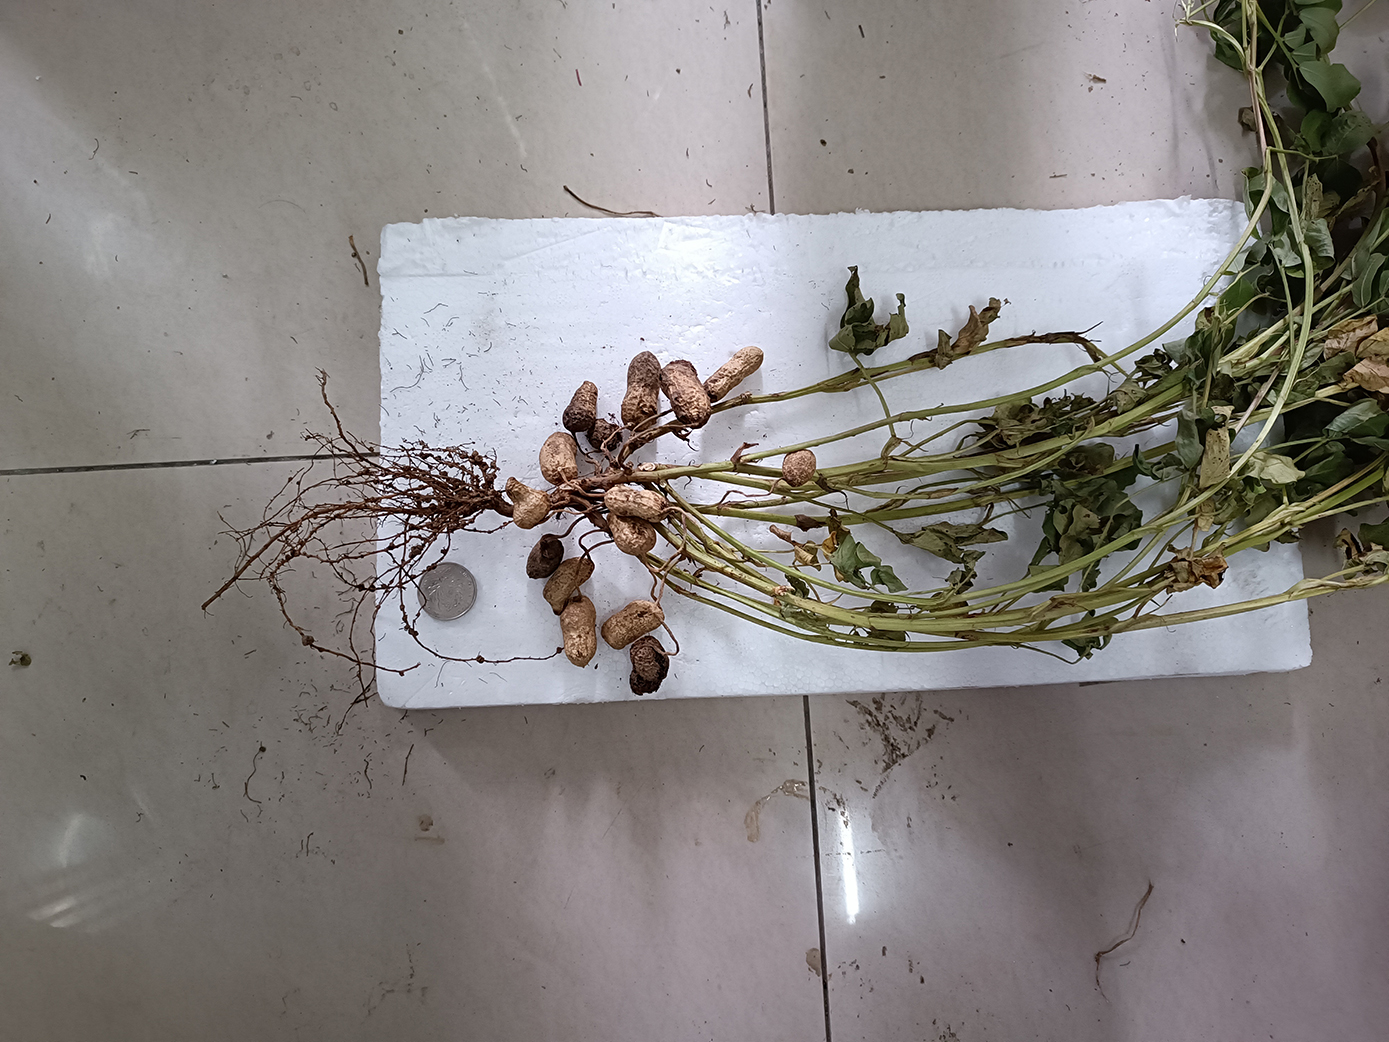h: (602, 598, 665, 649), (542, 559, 597, 611), (704, 347, 763, 393), (602, 483, 669, 522), (557, 595, 593, 664), (501, 474, 547, 528), (602, 510, 655, 553), (539, 432, 578, 485), (782, 449, 817, 486)
l: (658, 358, 709, 430), (623, 350, 658, 424), (628, 638, 669, 695), (564, 380, 598, 431), (526, 533, 563, 578), (587, 414, 616, 451)
